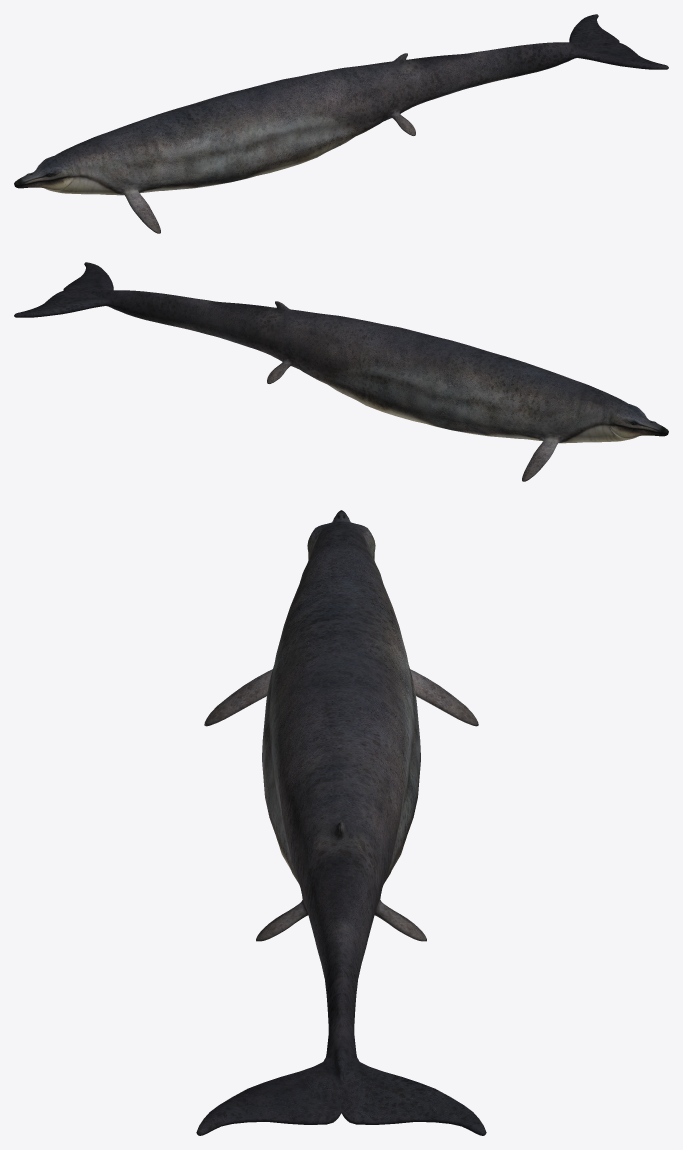
The model's file is Basilosaurus.glb.
3 views of the same model, one above another, from view 1: azimuth 30°, elevation 25°; view 2: azimuth 150°, elevation 25°; view 3: azimuth 270°, elevation 25° (orthographic). The views are drawn at different scales.
Parts seen in each view (by area): view 1: skfb_offset; view 2: skfb_offset; view 3: skfb_offset.
Boxes of the visible parts, left/top/right/bottom form: skfb_offset: left=14, top=14, right=668, bottom=233; skfb_offset: left=14, top=262, right=668, bottom=481; skfb_offset: left=196, top=510, right=486, bottom=1135.
Bounding box in the file's own units: 176586 × 23798 × 35840.
Materials: 4 (4 with a texture image).
